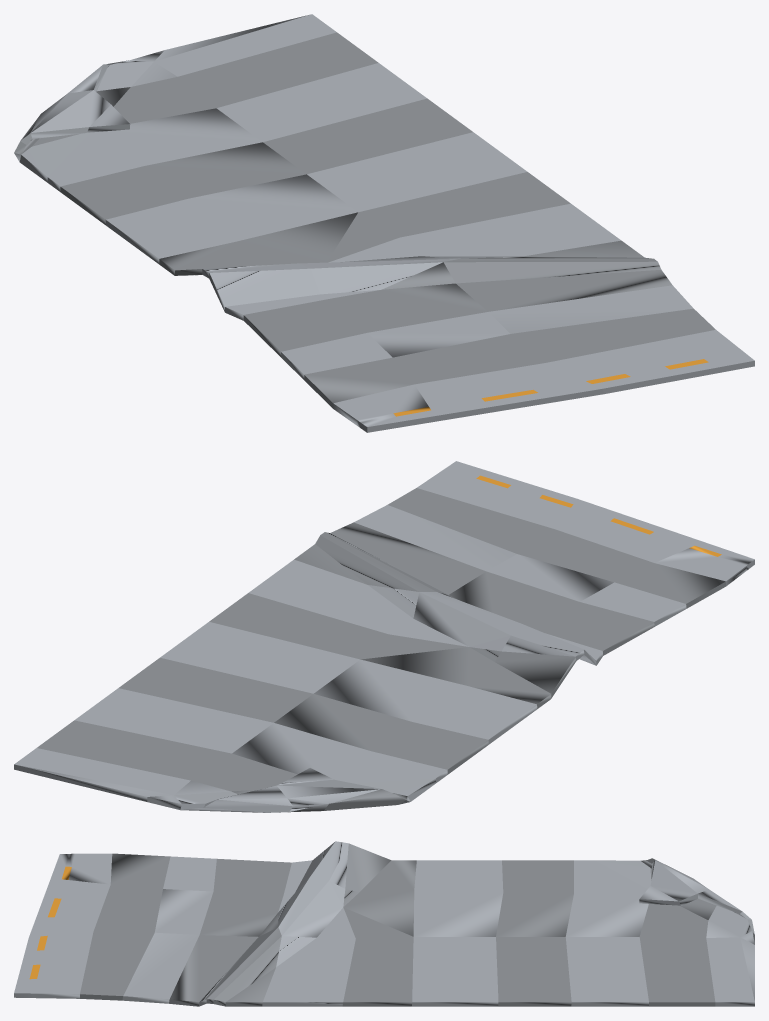
File: SM_Prop_Rug_08.fbx
3 renders of one model, top to bottom at view 1: azimuth 30°, elevation 25°; view 2: azimuth 150°, elevation 25°; view 3: azimuth 270°, elevation 25°, orthographic. The views are drawn at different scales.
Visible parts, largest first — view 1: SM_Prop_Rug_08; view 2: SM_Prop_Rug_08; view 3: SM_Prop_Rug_08.
Boxes of the visible parts, x1=… form: SM_Prop_Rug_08: x1=14, y1=14, x2=754, y2=432; SM_Prop_Rug_08: x1=14, y1=461, x2=754, y2=812; SM_Prop_Rug_08: x1=14, y1=841, x2=754, y2=1006.
Bounding box in the file's own units: 1.07 × 0.0776 × 2.24.
1 material, 1 textured.
